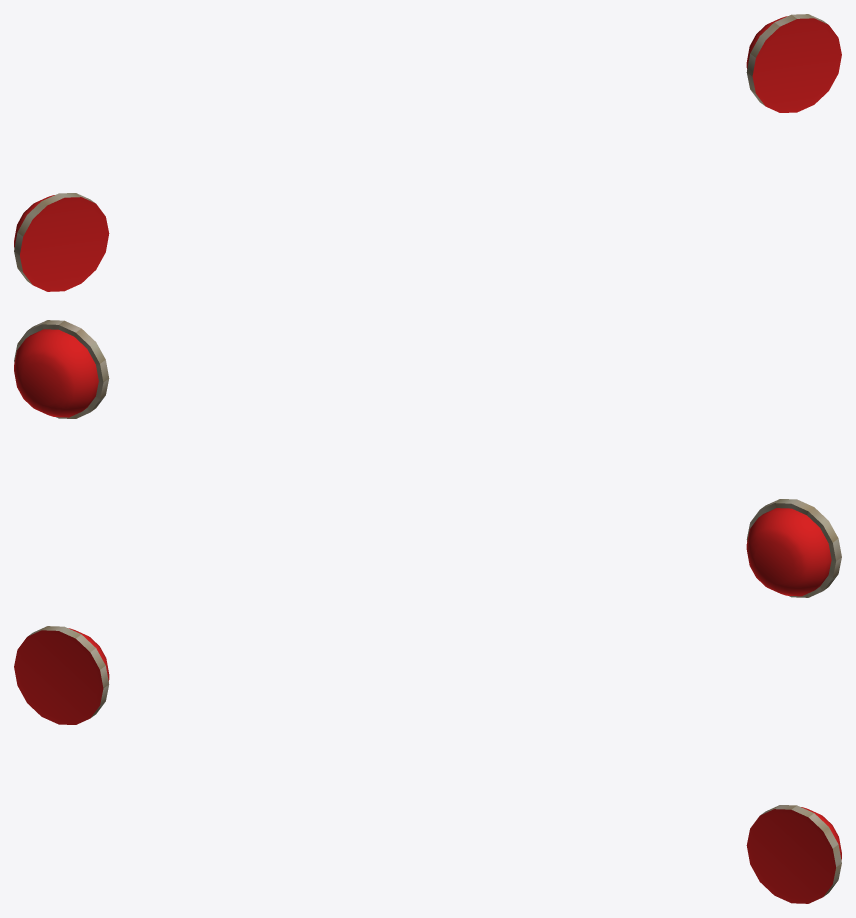
Rendered from Headlights.fbx.
3 views of the same model, one above another, from view 1: azimuth 30°, elevation 25°; view 2: azimuth 150°, elevation 25°; view 3: azimuth 330°, elevation 25° (orthographic).
Parts seen in each view (by area): view 1: Headlights; view 2: Headlights; view 3: Headlights.
Boxes of the visible parts, x1,y1,x2,y2 form: Headlights: [14, 14, 841, 291]; Headlights: [14, 320, 841, 597]; Headlights: [14, 626, 841, 903].
Size of the model in its own units: 82.75 by 9 by 3.96.
2 materials, 2 textured.
